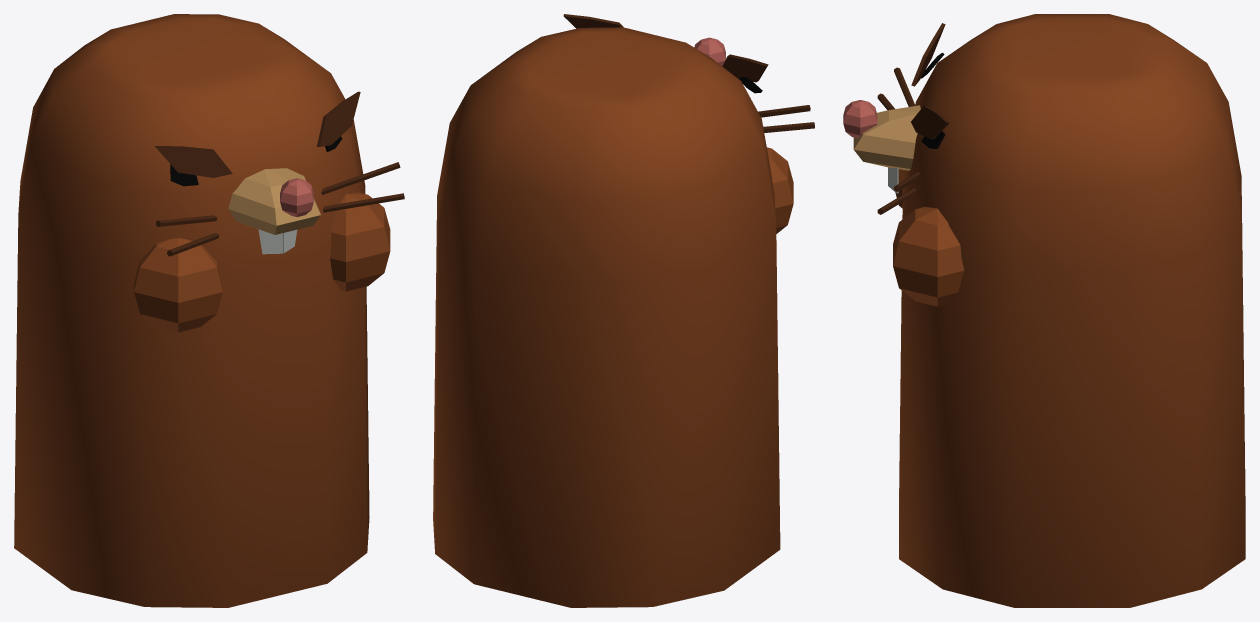
The model's file is Mesh_mole.fbx.
The picture shows the model from 3 angles, left to right: view 1: azimuth 30°, elevation 25°; view 2: azimuth 150°, elevation 25°; view 3: azimuth 270°, elevation 25°; orthographic projection. The views are drawn at different scales.
Visible parts, largest first — view 1: Mesh_mole; view 2: Mesh_mole; view 3: Mesh_mole.
Boxes of the visible parts, box(x1,y1,x2,y2) form: Mesh_mole: box(14, 14, 404, 607); Mesh_mole: box(433, 14, 814, 607); Mesh_mole: box(843, 14, 1245, 607).
Bounding box in the file's own units: 100 × 154 × 116.
